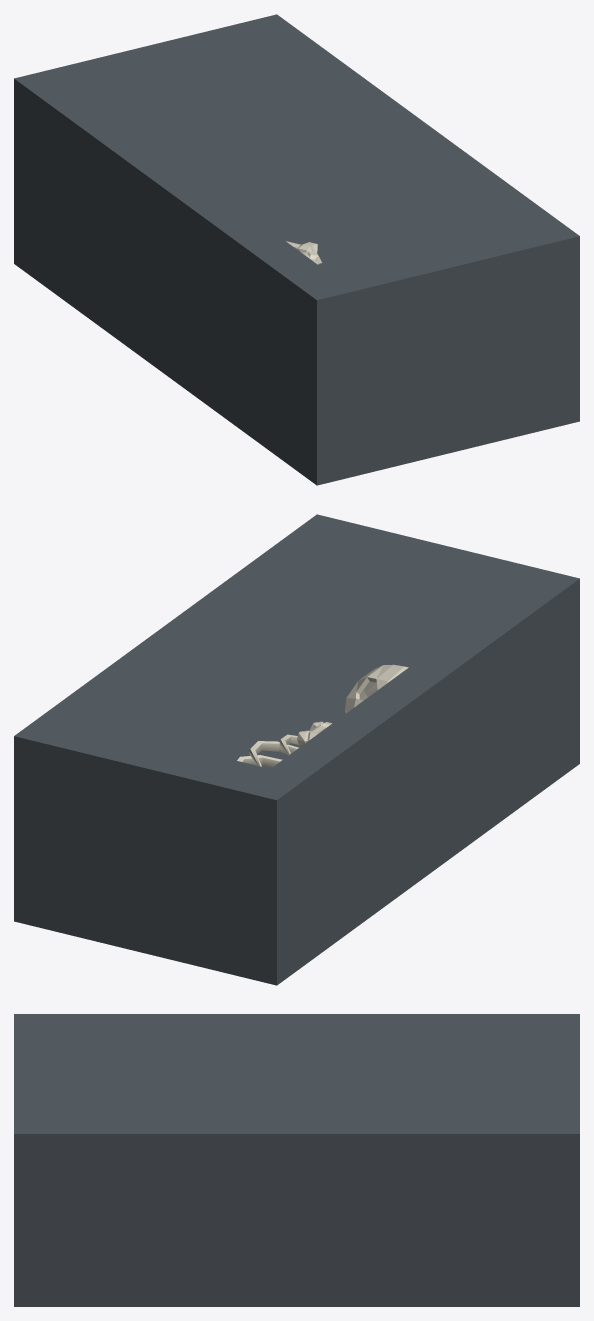
The model's file is GraveSkeleton.obj.
3 renders of one model, top to bottom at view 1: azimuth 30°, elevation 25°; view 2: azimuth 150°, elevation 25°; view 3: azimuth 270°, elevation 25°, orthographic. The views are drawn at different scales.
Parts seen in each view (by area): view 1: GraveWithSkeleton; view 2: GraveWithSkeleton; view 3: GraveWithSkeleton.
Part boxes in pixels (x1=…): GraveWithSkeleton: x1=14, y1=14, x2=579, y2=485; GraveWithSkeleton: x1=14, y1=514, x2=579, y2=985; GraveWithSkeleton: x1=14, y1=1014, x2=579, y2=1306.
Bounding box in the file's own units: 4.52 × 3.05 × 9.03.
